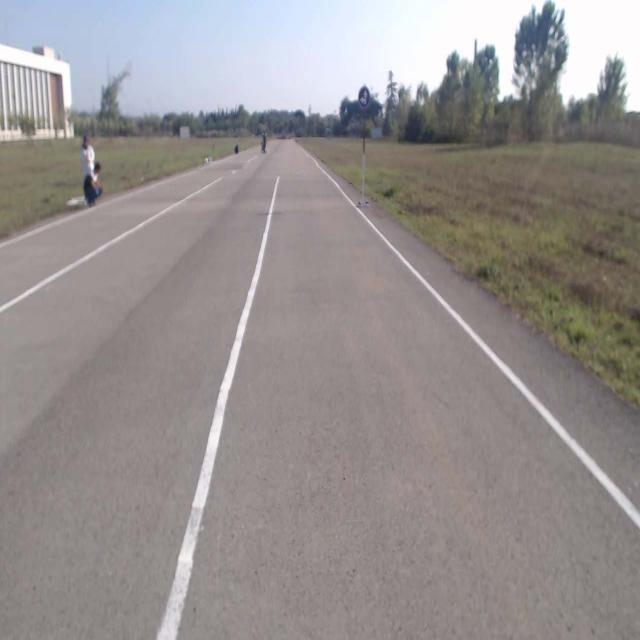ilerisol: (358, 86, 370, 108)
